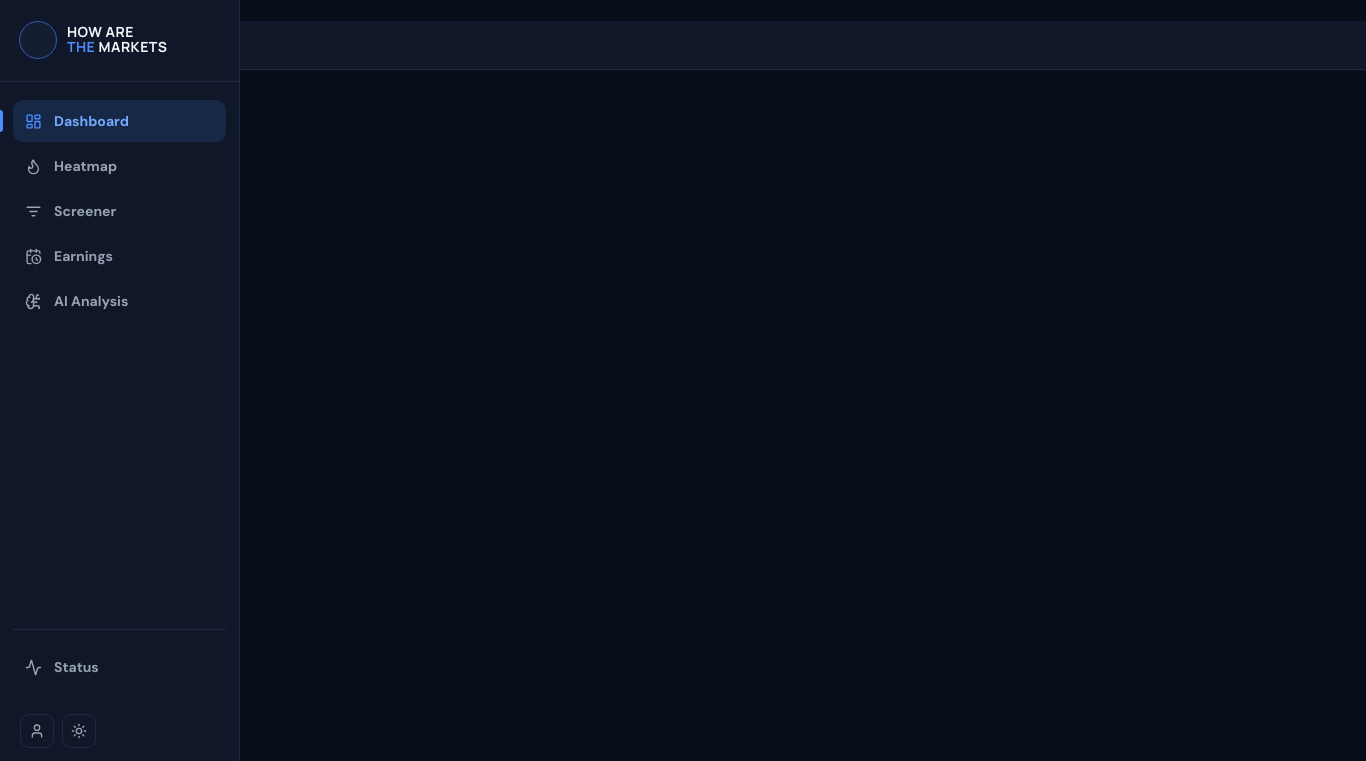
Test: Morning Briefing frontend demo › opens on Morning Briefing and navigates between public areas via the shell
What coordinates should you click on to do the following:
click the link "Earnings"
I would click on:
 (69, 256)
Its box is [25, 247, 113, 265].
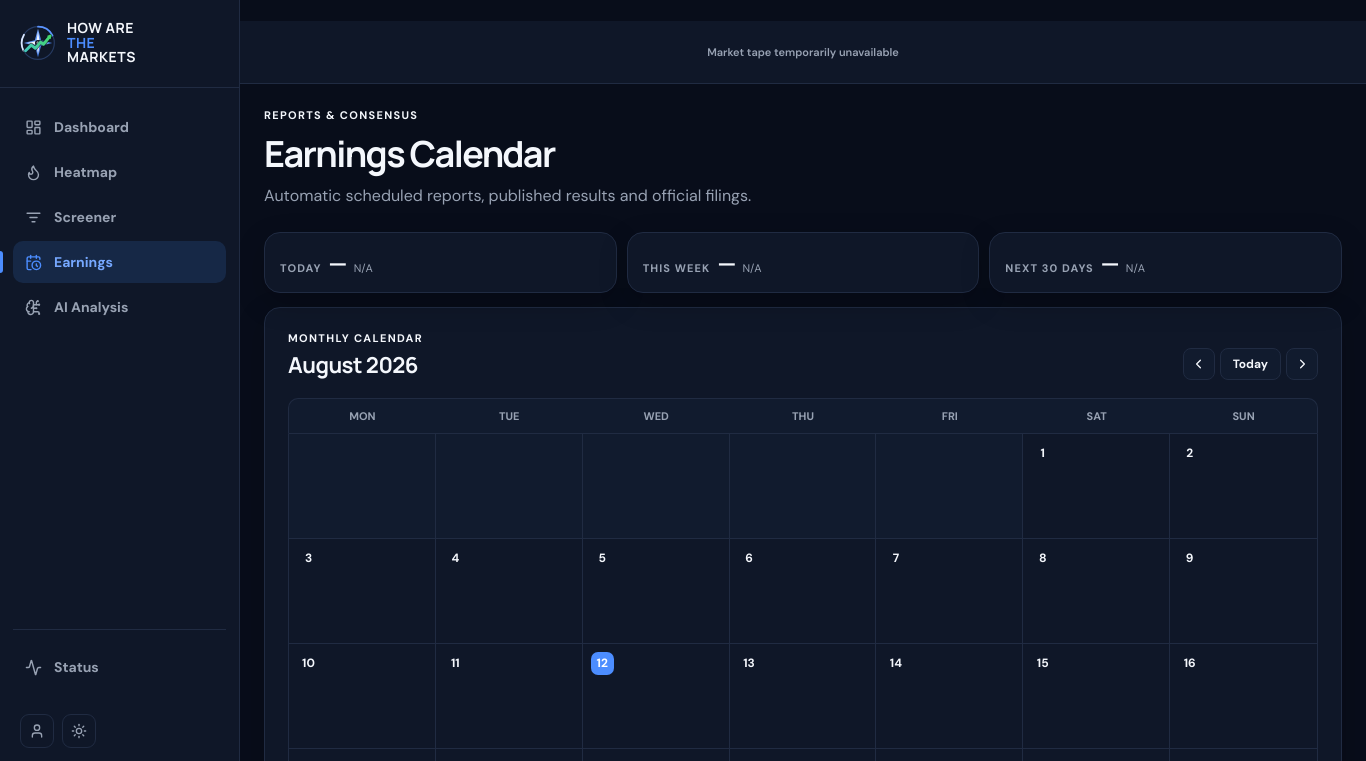
Expected: the text named "Current path" reads "/earnings", [0, 0, 68, 21]
Now the heading "Earnings Calendar" is shown, box [264, 129, 555, 178]
